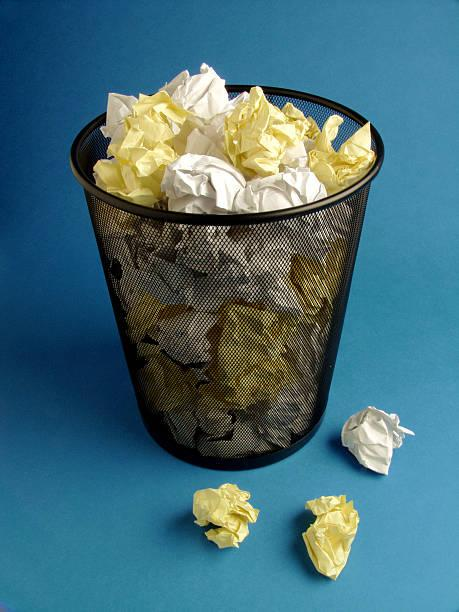paper: (67, 51, 387, 470), (337, 401, 422, 480), (300, 490, 363, 583), (190, 480, 263, 550)
